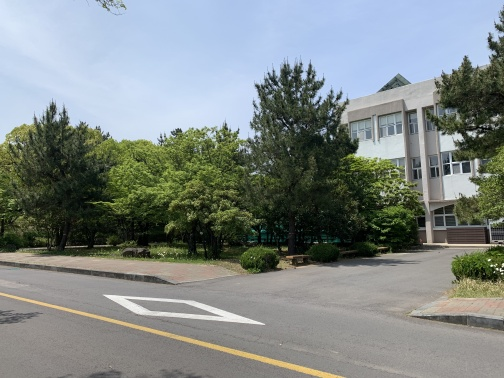Ara Hall: (226, 204, 355, 246)
